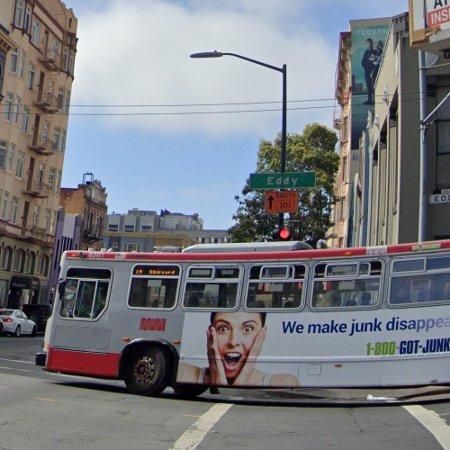buses: (42, 242, 450, 396)
